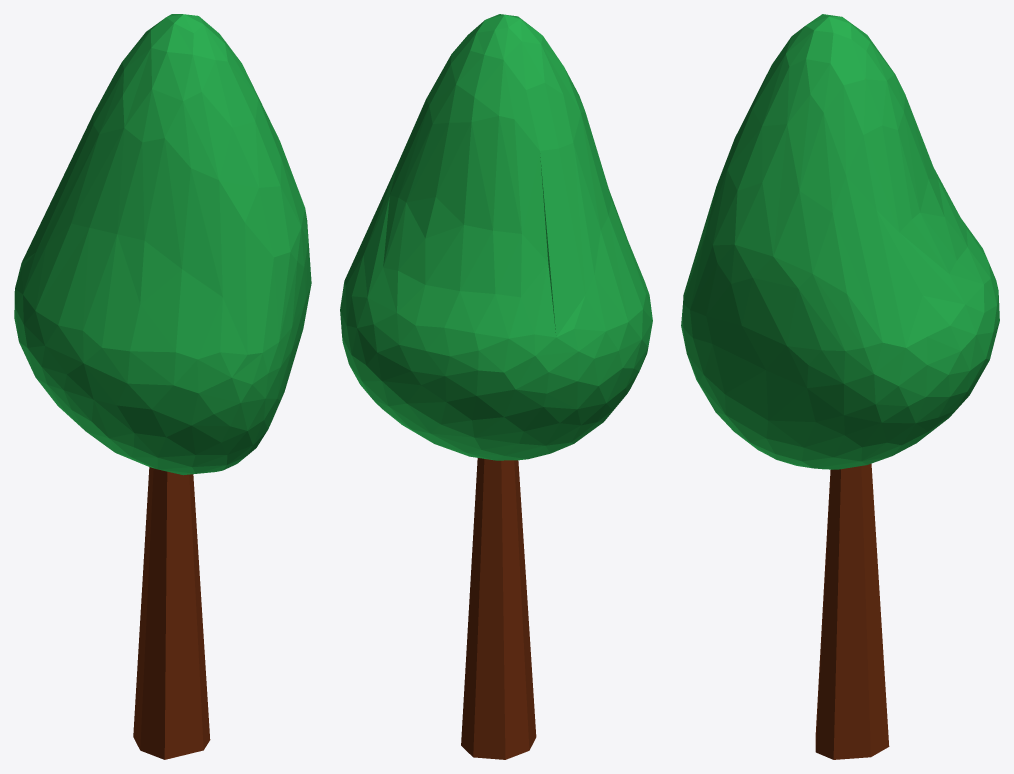
Rendered from lowtree4.fbx.
The picture shows the model from 3 angles, left to right: view 1: azimuth 30°, elevation 25°; view 2: azimuth 150°, elevation 25°; view 3: azimuth 270°, elevation 25°; orthographic projection.
Visible parts, largest first — view 1: Icosphere.002; view 2: Icosphere.002; view 3: Icosphere.002.
Boxes of the visible parts, x1,y1,x2,y2 form: Icosphere.002: [14, 14, 311, 759]; Icosphere.002: [340, 14, 652, 759]; Icosphere.002: [681, 14, 999, 759].
Bounding box in the file's own units: 70.59 × 183 × 72.36.
Materials: 1 (1 with a texture image).
